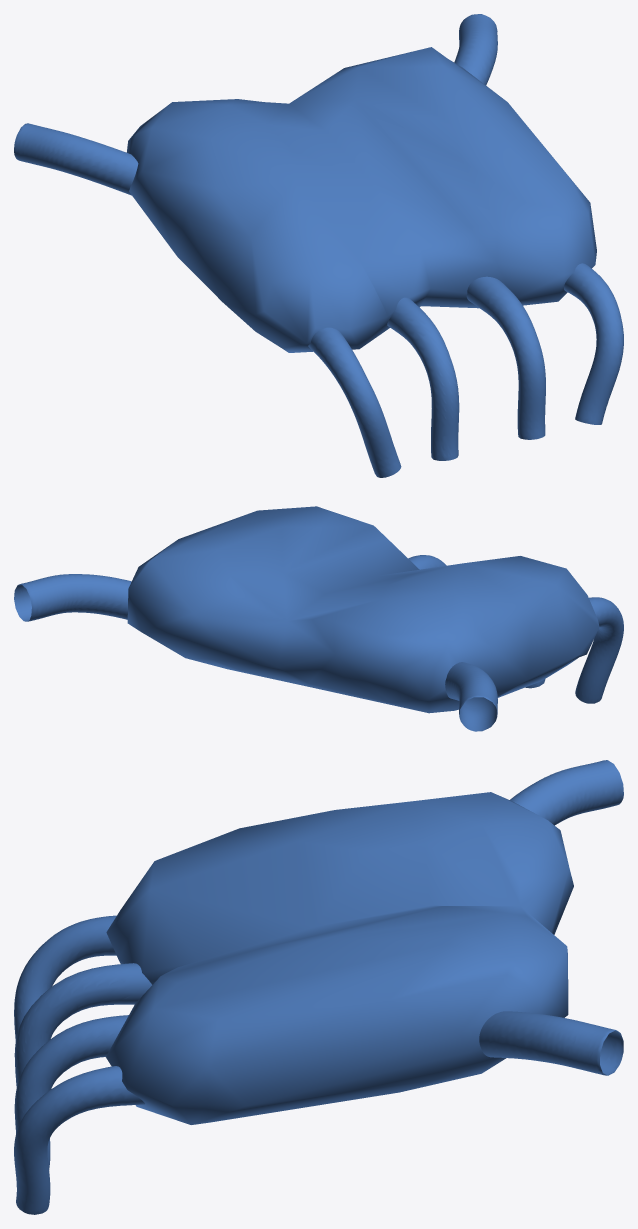
The picture shows the model from 3 angles, top to bottom: view 1: azimuth 30°, elevation 25°; view 2: azimuth 150°, elevation 25°; view 3: azimuth 270°, elevation 25°; orthographic projection. The views are drawn at different scales.
Visible parts, largest first — view 1: 基底静脉丛; view 2: 基底静脉丛; view 3: 基底静脉丛.
Boxes of the visible parts, bbox=[...] form: 基底静脉丛: bbox=[14, 14, 623, 477]; 基底静脉丛: bbox=[14, 506, 623, 731]; 基底静脉丛: bbox=[14, 760, 623, 1214].
Bounding box in the file's own units: 0.0286 × 0.013 × 0.0256.
